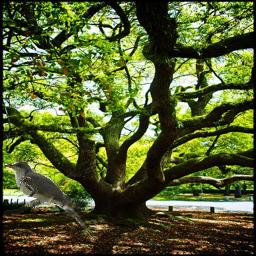Cuckoo: (4, 161, 96, 240)
